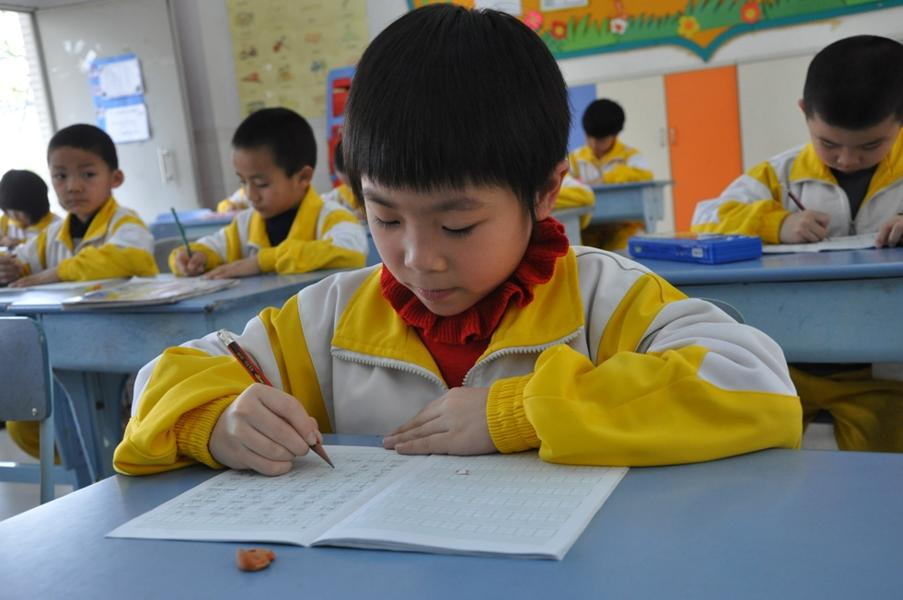person: (111, 5, 802, 479)
